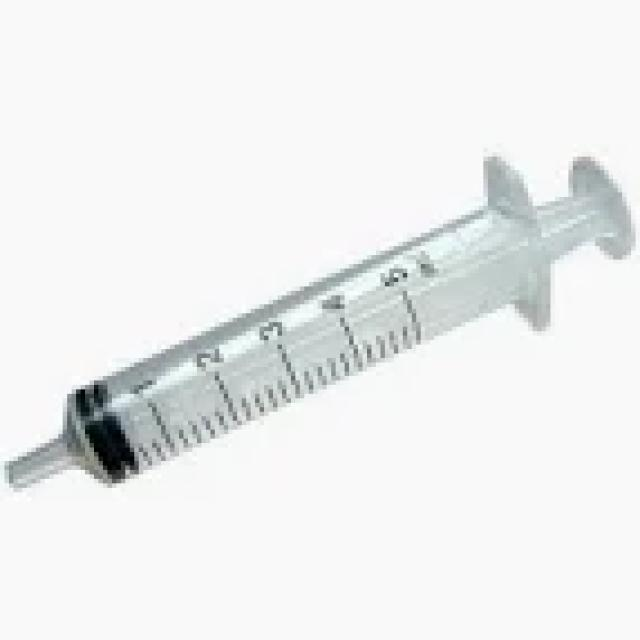syringe: (0, 148, 636, 492)
